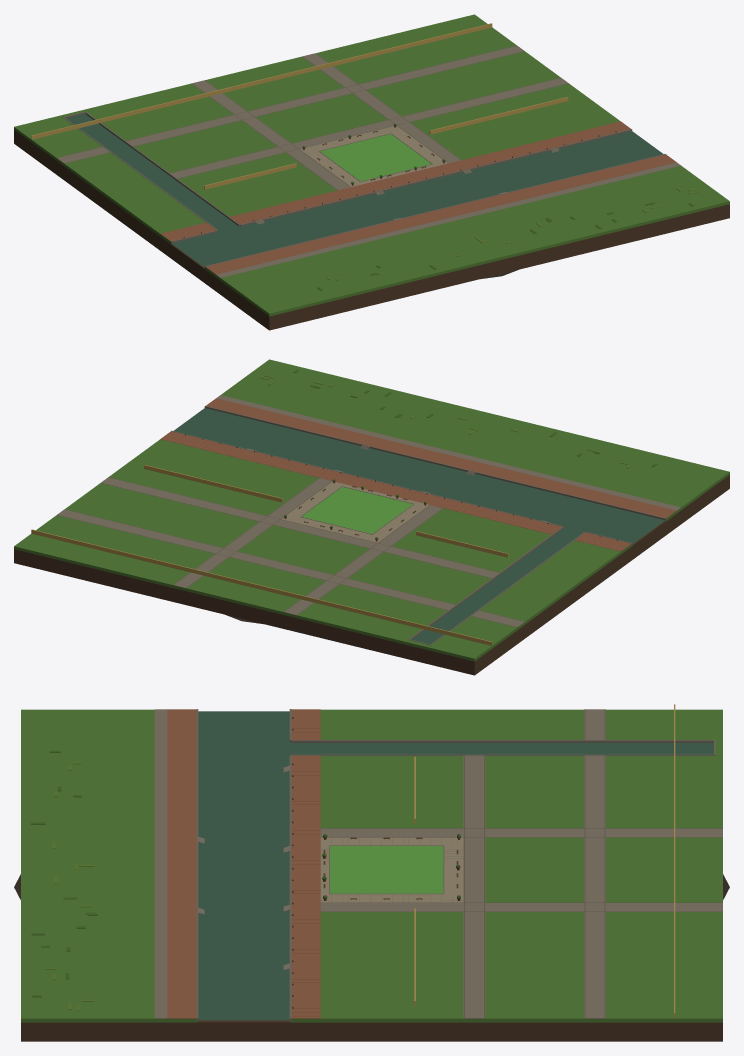
The model's file is island_base.glb.
3 renders of one model, top to bottom at view 1: azimuth 30°, elevation 25°; view 2: azimuth 150°, elevation 25°; view 3: azimuth 270°, elevation 25°, orthographic. The views are drawn at different scales.
Parts seen in each view (by area): view 1: GroundMerged, RiverWater, SoilUnderbellyDetails, CentralLawn; view 2: GroundMerged, RiverWater, SoilUnderbellyDetails, CentralLawn; view 3: GroundMerged, RiverWater, SoilUnderbellyDetails, CentralLawn.
Part boxes in pixels (left/top/right/bottom): GroundMerged: left=14, top=14, right=729, bottom=316; RiverWater: left=66, top=114, right=663, bottom=267; SoilUnderbellyDetails: left=14, top=23, right=729, bottom=330; CentralLawn: left=320, top=134, right=431, bottom=181; GroundMerged: left=14, top=359, right=729, bottom=661; RiverWater: left=174, top=408, right=664, bottom=644; SoilUnderbellyDetails: left=14, top=369, right=729, bottom=675; CentralLawn: left=301, top=487, right=413, bottom=533; GroundMerged: left=21, top=709, right=722, bottom=1022; RiverWater: left=198, top=711, right=713, bottom=1020; SoilUnderbellyDetails: left=14, top=704, right=729, bottom=1041; CentralLawn: left=330, top=846, right=443, bottom=893.
Size of the model in its own units: 200 by 22.6 by 196.
